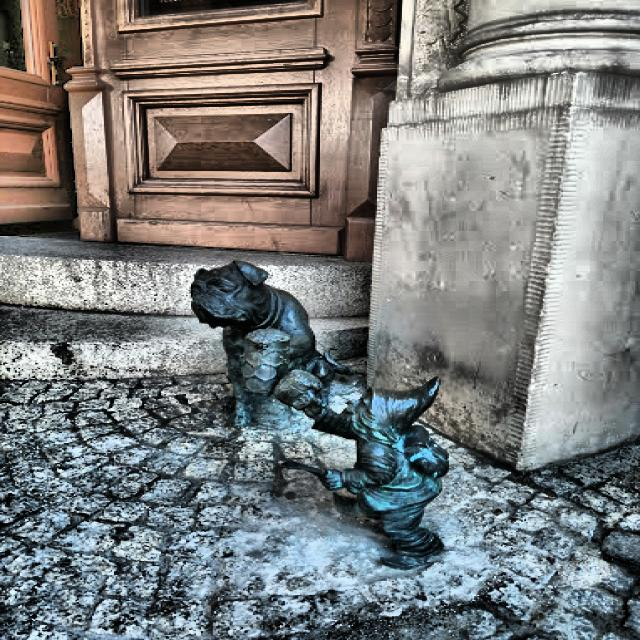Piwozlopek_ i_Piesel_Piwosz: (192, 263, 447, 568)
